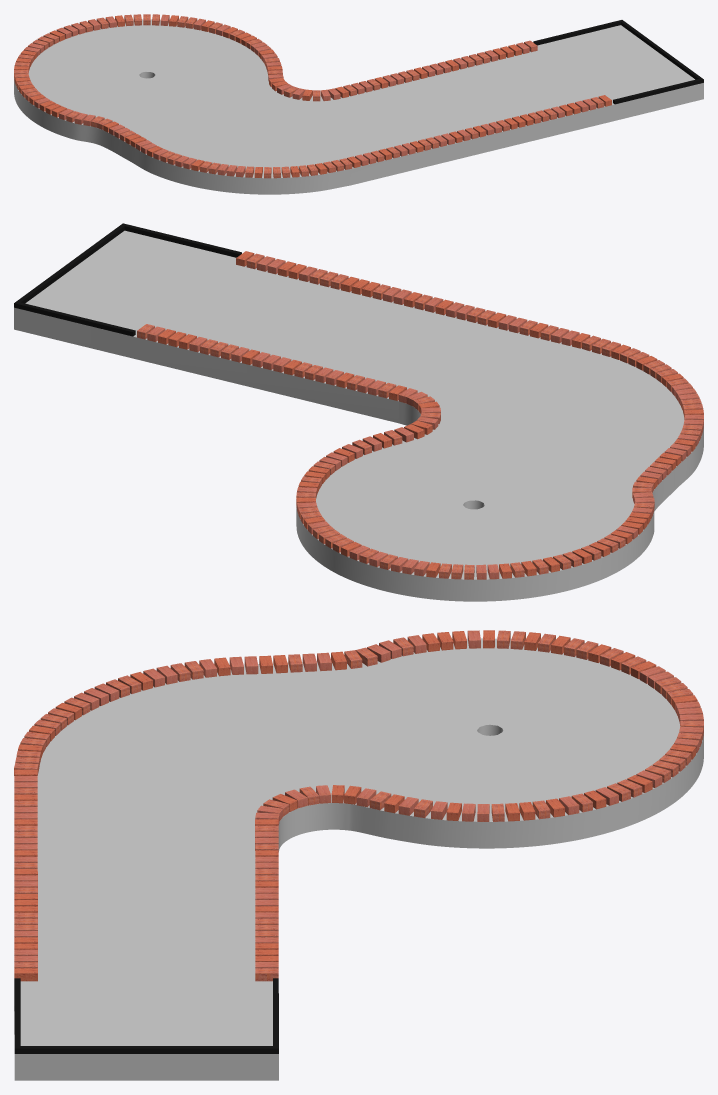
Rendered from Hole.obj.
3 views of the same model, one above another, from view 1: azimuth 30°, elevation 25°; view 2: azimuth 150°, elevation 25°; view 3: azimuth 270°, elevation 25° (orthographic). The views are drawn at different scales.
Parts seen in each view (by area): view 1: Line0102, Box3512; view 2: Line0102, Box3512; view 3: Line0102, Box3512.
Part boxes in pixels (x1,y1,x2,y2): Line0102: (14, 19, 703, 194); Box3512: (533, 20, 703, 104); Line0102: (14, 230, 703, 601); Box3512: (14, 223, 241, 336); Line0102: (14, 638, 703, 1080); Box3512: (14, 978, 278, 1053).
Size of the model in its own units: 193 by 7.49 by 135.
